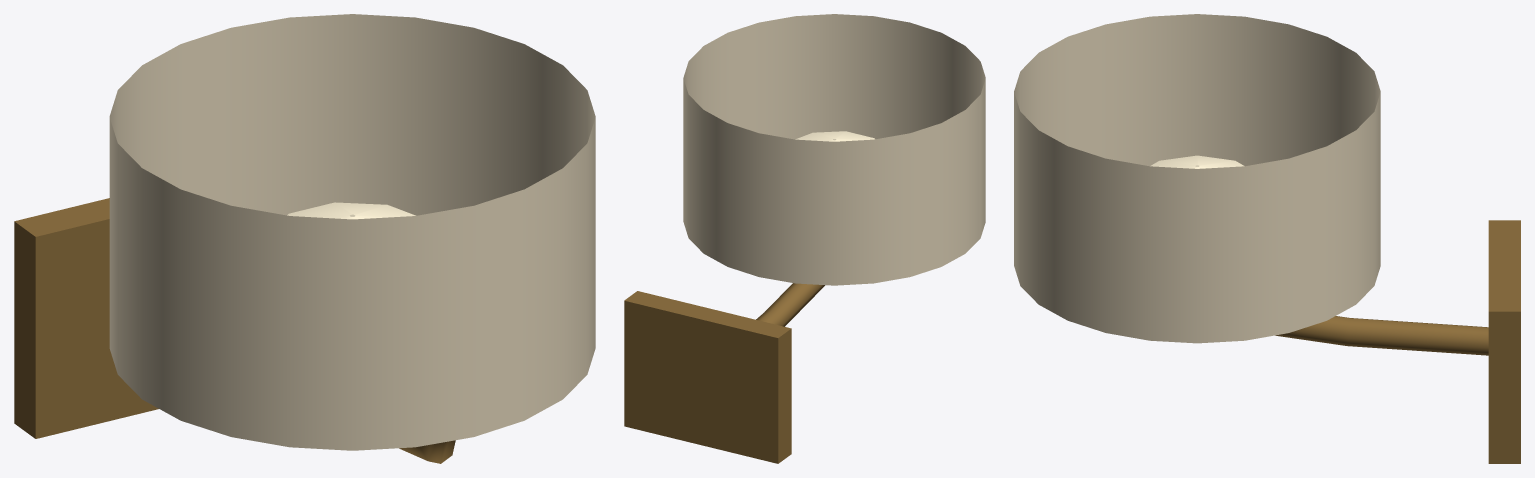
File: BIB-SCN-std.glb
The picture shows the model from 3 angles, left to right: view 1: azimuth 30°, elevation 25°; view 2: azimuth 150°, elevation 25°; view 3: azimuth 270°, elevation 25°; orthographic projection. The views are drawn at different scales.
Visible parts, largest first — view 1: BIB-SCN-std; view 2: BIB-SCN-std; view 3: BIB-SCN-std.
Boxes of the visible parts, left/top/right/bottom form: BIB-SCN-std: left=14, top=14, right=595, bottom=463; BIB-SCN-std: left=624, top=14, right=985, bottom=463; BIB-SCN-std: left=1014, top=14, right=1520, bottom=463.
Size of the model in its own units: 0.17 by 0.1673 by 0.235.
